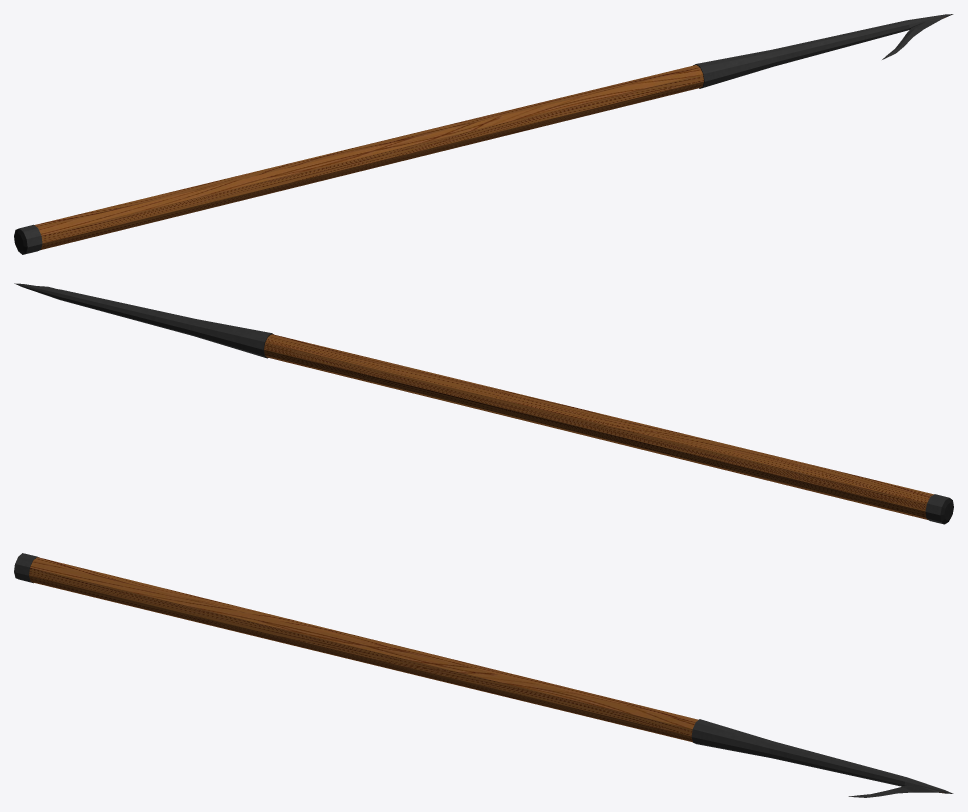
The model's file is WorldItem_HarpoonSpear.fbx.
3 renders of one model, top to bottom at view 1: azimuth 30°, elevation 25°; view 2: azimuth 150°, elevation 25°; view 3: azimuth 330°, elevation 25°, orthographic.
Visible parts, largest first — view 1: ZomboidHarpoonSpear; view 2: ZomboidHarpoonSpear; view 3: ZomboidHarpoonSpear.
Boxes of the visible parts, <box> form: ZomboidHarpoonSpear: <box>14,14,953,254</box>; ZomboidHarpoonSpear: <box>14,283,953,524</box>; ZomboidHarpoonSpear: <box>14,553,953,797</box>.
Size of the model in its own units: 1.1 by 0.0273 by 0.0487.
